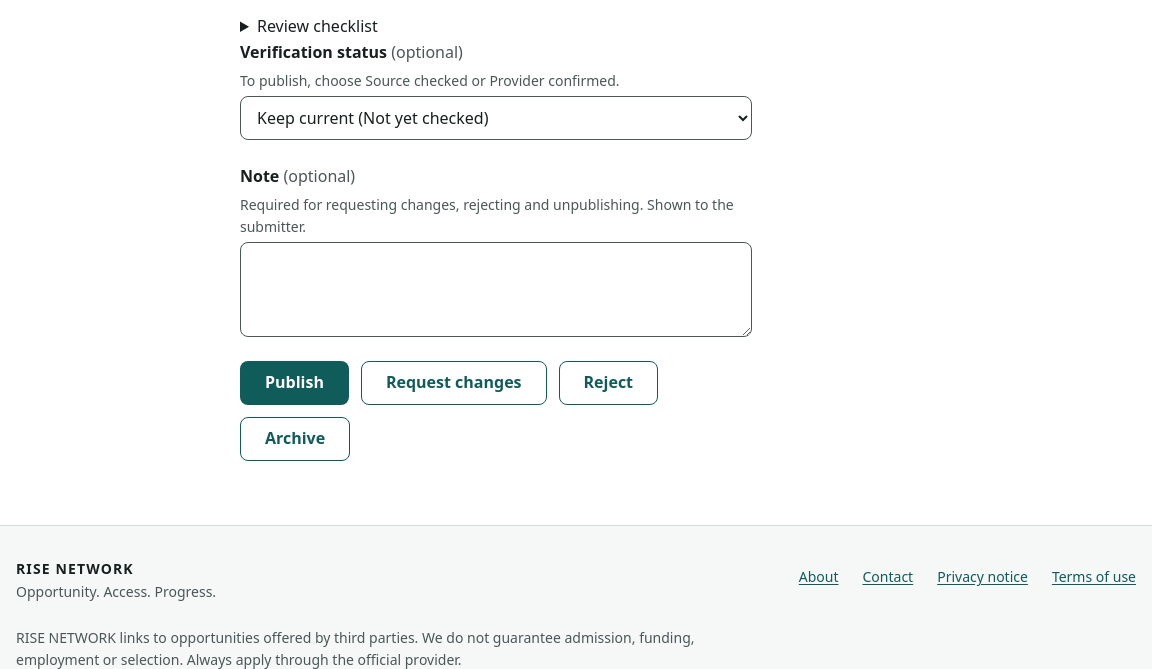
it: review decisions (FR-010) › shows the database rule message when a decision is refused
(page scrolled)
Click the button "Publish": (294, 383) [240,361,349,405]
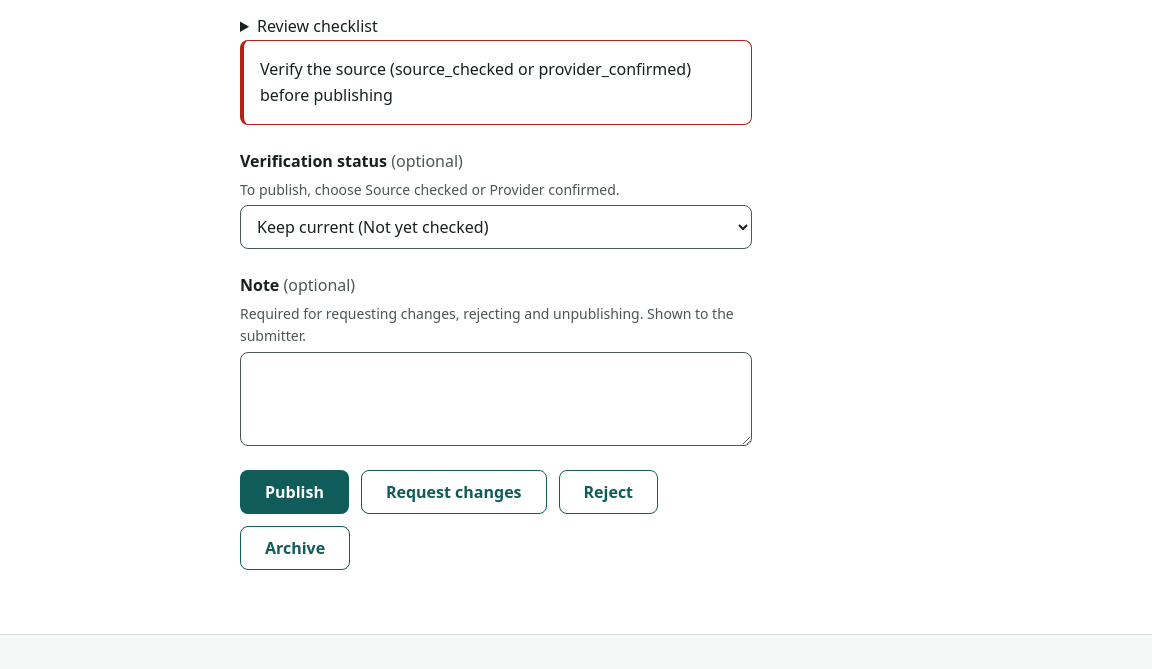
Expected: the message shows "Verify the source", [260,58,691,106]
